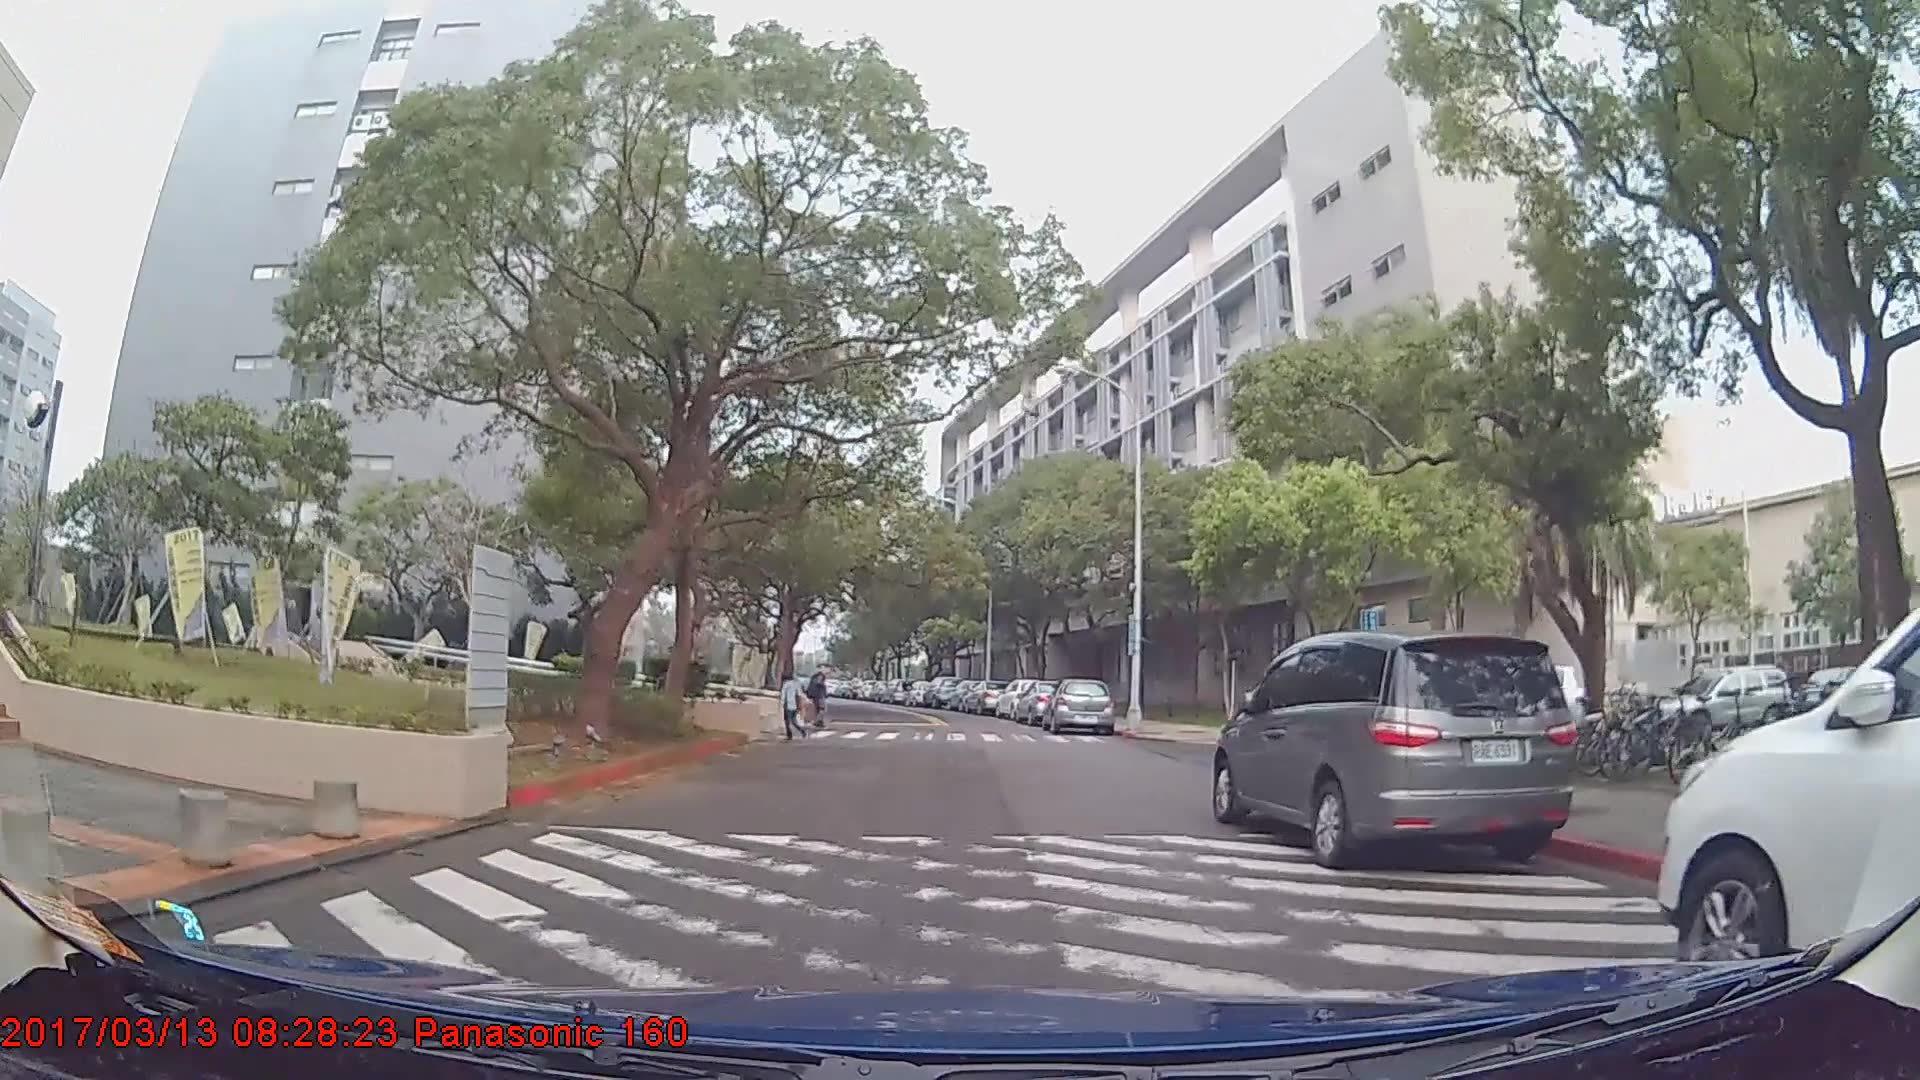pedestrian: (779, 673, 808, 744), (808, 661, 833, 733)
vehicle: (1654, 601, 1920, 996), (1214, 629, 1582, 875), (1664, 665, 1800, 744), (1047, 678, 1116, 736), (921, 675, 962, 709), (964, 682, 1006, 715)
